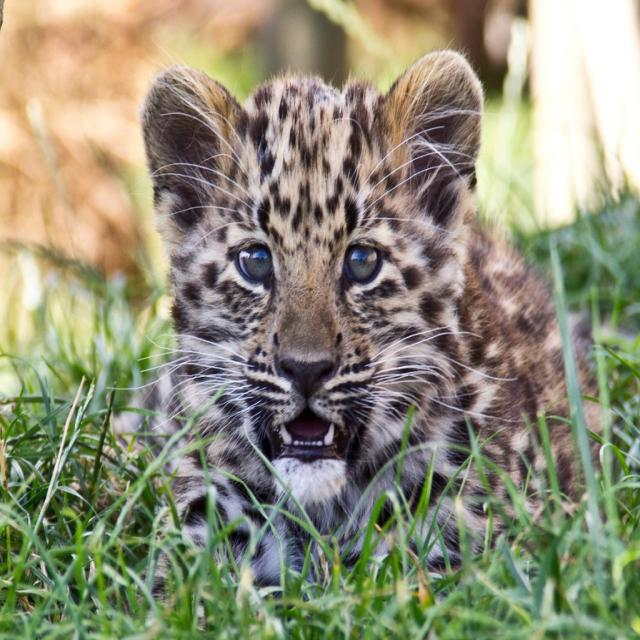Cheetah: (108, 37, 612, 631)
